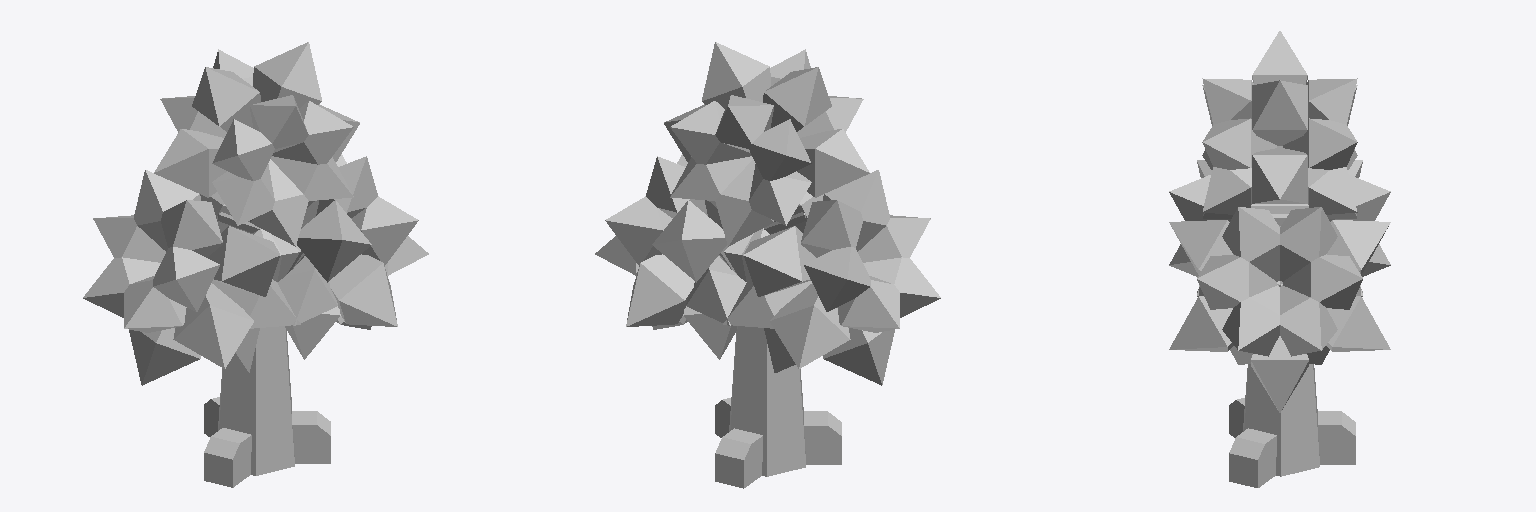
Rendered from candytree.obj.
3 renders of one model, left to right at view 1: azimuth 30°, elevation 25°; view 2: azimuth 150°, elevation 25°; view 3: azimuth 270°, elevation 25°, orthographic.
Parts seen in each view (by area): view 1: polySurface1783__leaf, polySurface1799__Dbt_YureTreeNa; view 2: polySurface1783__leaf, polySurface1799__Dbt_YureTreeNa; view 3: polySurface1783__leaf, polySurface1799__Dbt_YureTreeNa.
Part boxes in pixels (bbox=[...]): polySurface1783__leaf: bbox=[83, 42, 428, 385]; polySurface1799__Dbt_YureTreeNa: bbox=[204, 326, 330, 487]; polySurface1783__leaf: bbox=[595, 42, 940, 385]; polySurface1799__Dbt_YureTreeNa: bbox=[715, 326, 841, 488]; polySurface1783__leaf: bbox=[1169, 31, 1390, 412]; polySurface1799__Dbt_YureTreeNa: bbox=[1229, 285, 1355, 487].
Bounding box in the file's own units: 28.23 × 35.6 × 17.81.